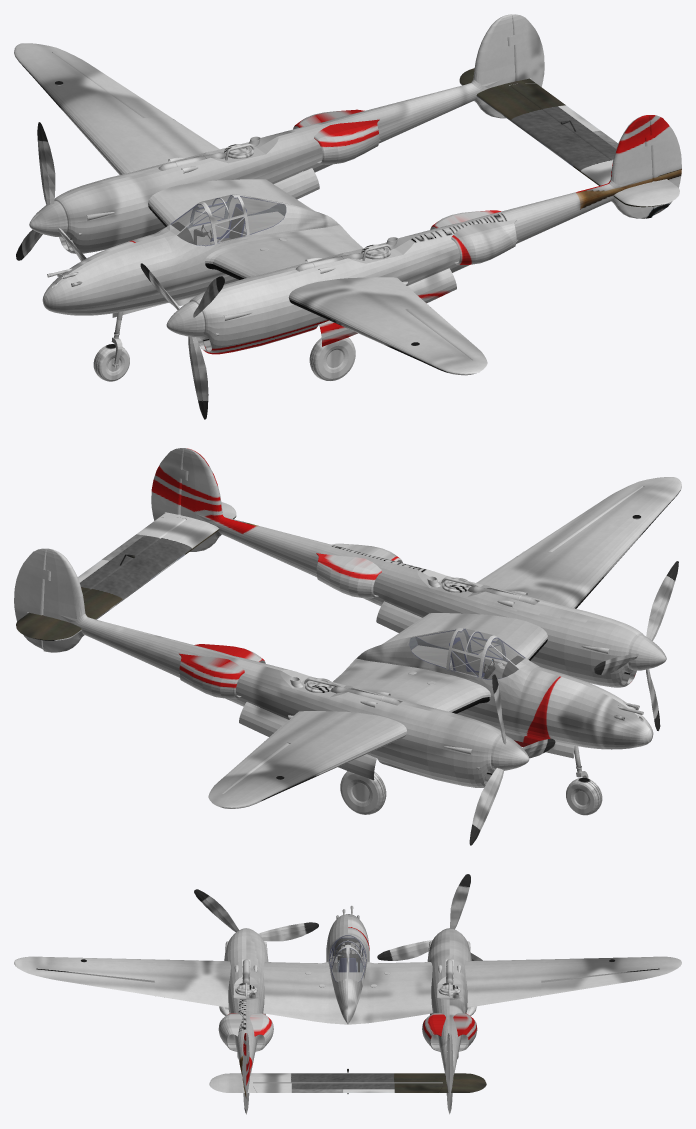
The picture shows the model from 3 angles, top to bottom: view 1: azimuth 30°, elevation 25°; view 2: azimuth 150°, elevation 25°; view 3: azimuth 270°, elevation 25°; orthographic projection. The views are drawn at different scales.
Parts seen in each view (by area): view 1: moteurs, ailes, fuselage, ailes2, air, intvitres_intvitres.mesh, vitres, profondeur, directionG, directionD, heliceG, turbos (+12 smaller); view 2: moteurs, ailes, fuselage, ailes2, air, intvitres_intvitres.mesh, vitres, profondeur, directionD, heliceG, directionG, turbos (+12 smaller); view 3: ailes, moteurs, ailes2, fuselage, profondeur, air, trous, heliceD, aileronG, aileronD, heliceG, turbos (+3 smaller).
Part boxes in pixels (x1,y1,x2,y2): moteurs: [54, 14, 652, 354]; ailes: [14, 43, 487, 375]; fuselage: [42, 194, 339, 315]; ailes2: [459, 68, 679, 207]; air: [293, 109, 517, 264]; intvitres_intvitres.mesh: [171, 196, 285, 245]; vitres: [171, 196, 285, 245]; profondeur: [510, 83, 618, 161]; directionG: [645, 115, 681, 215]; directionD: [507, 14, 544, 86]; heliceG: [140, 263, 224, 419]; turbos: [158, 136, 397, 271]; moteurs: [43, 448, 643, 787]; ailes: [208, 477, 681, 808]; fuselage: [356, 628, 653, 749]; ailes2: [16, 502, 236, 640]; air: [178, 543, 401, 698]; intvitres_intvitres.mesh: [410, 630, 524, 679]; vitres: [410, 630, 524, 679]; profondeur: [77, 517, 185, 594]; directionD: [14, 548, 50, 649]; heliceG: [594, 561, 678, 730]; directionG: [151, 448, 188, 520]; turbos: [289, 576, 537, 705]; ailes: [14, 956, 681, 1024]; moteurs: [224, 929, 471, 1109]; ailes2: [209, 1073, 486, 1092]; fuselage: [326, 914, 369, 1024]; profondeur: [253, 1069, 442, 1093]; air: [218, 1013, 477, 1051]; trous: [36, 959, 659, 1095]; heliceD: [377, 874, 482, 960]; aileronG: [36, 969, 154, 995]; aileronD: [541, 969, 659, 995]; heliceG: [194, 889, 318, 941]; turbos: [235, 959, 460, 998].
Bounding box in the file's own units: 11.52 × 3.9 × 15.79.
